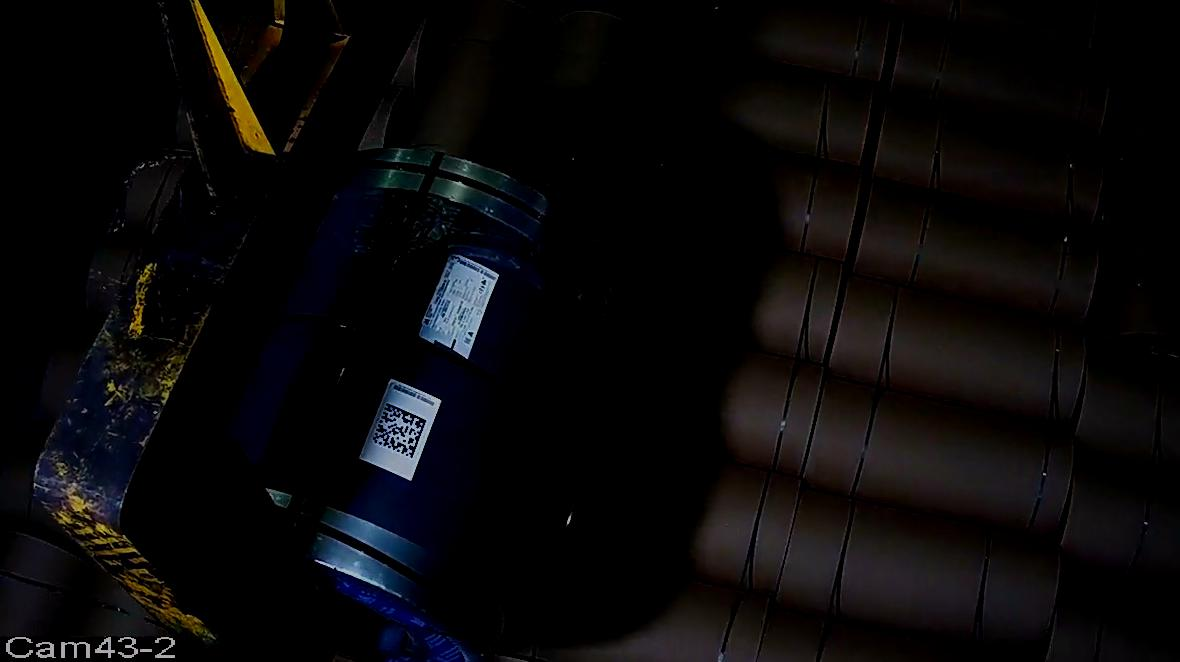data matrix: (371, 402, 429, 461)
